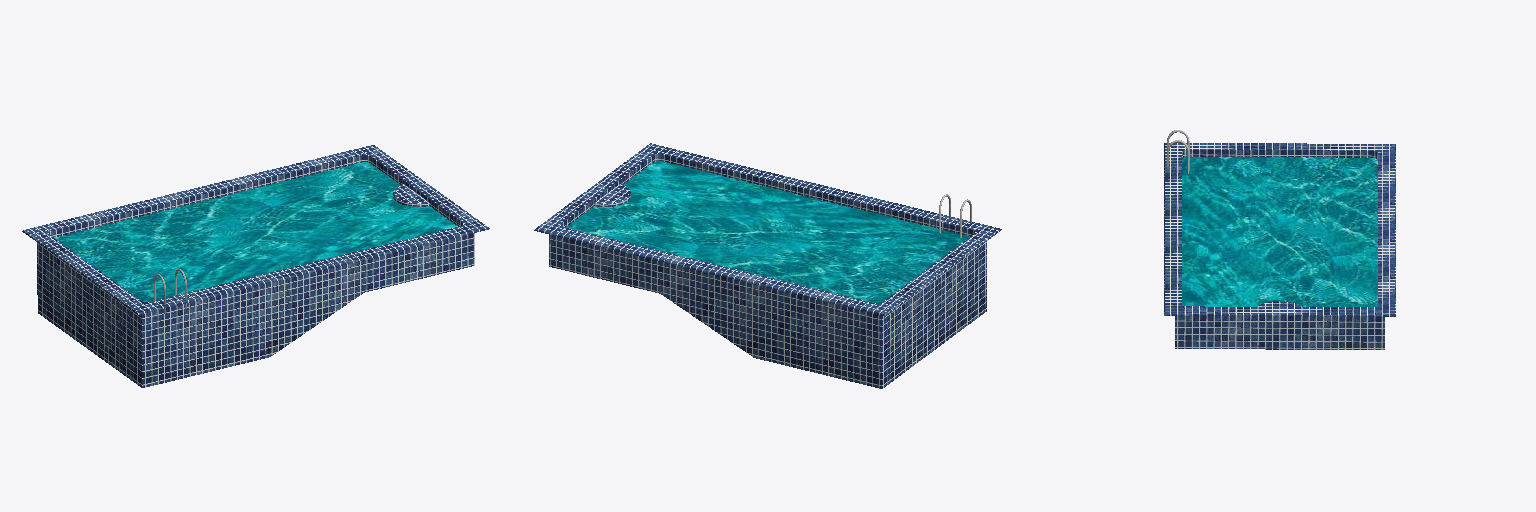
The picture shows the model from 3 angles: view 1: azimuth 30°, elevation 25°; view 2: azimuth 150°, elevation 25°; view 3: azimuth 270°, elevation 25°; orthographic projection.
Parts seen in each view (by area): view 1: SWIMMING_POOL, SWIMMING_POOL_WATER; view 2: SWIMMING_POOL, SWIMMING_POOL_WATER; view 3: SWIMMING_POOL_WATER, SWIMMING_POOL.
Part boxes in pixels (bbox=[...]): SWIMMING_POOL: bbox=[22, 145, 489, 387]; SWIMMING_POOL_WATER: bbox=[54, 162, 457, 301]; SWIMMING_POOL: bbox=[534, 143, 1001, 388]; SWIMMING_POOL_WATER: bbox=[566, 161, 969, 302]; SWIMMING_POOL_WATER: bbox=[1182, 157, 1377, 306]; SWIMMING_POOL: bbox=[1164, 143, 1395, 349].
Bounding box in the file's own units: 92.66 × 27.45 × 52.93.
3 materials, 3 textured.